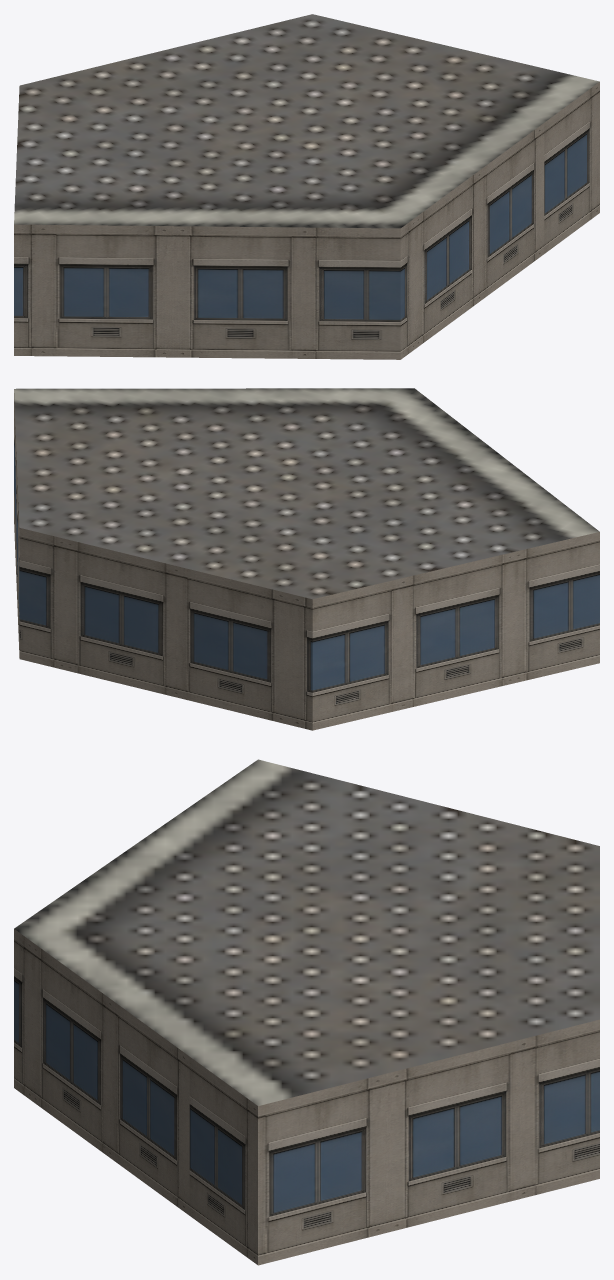
The model's file is building_light_a_35.glb.
3 views of the same model, one above another, from view 1: azimuth 30°, elevation 25°; view 2: azimuth 150°, elevation 25°; view 3: azimuth 270°, elevation 25° (orthographic). The views are drawn at different scales.
Parts seen in each view (by area): view 1: buildings/saxarba/building_light/building_light_a_35; view 2: buildings/saxarba/building_light/building_light_a_35; view 3: buildings/saxarba/building_light/building_light_a_35.
Boxes of the visible parts, x1,y1,x2,y2 form: buildings/saxarba/building_light/building_light_a_35: (14,14,599,359); buildings/saxarba/building_light/building_light_a_35: (14,388,599,730); buildings/saxarba/building_light/building_light_a_35: (14,759,599,1265).
Size of the model in its own units: 84 by 18 by 60.
